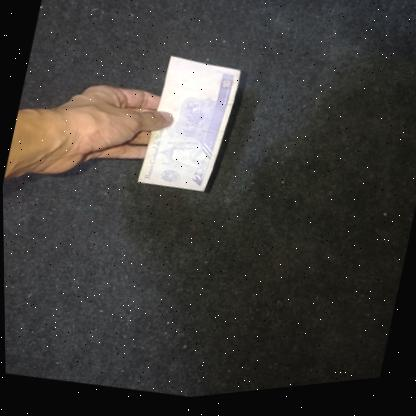ten-back-vef: (135, 51, 246, 203)
